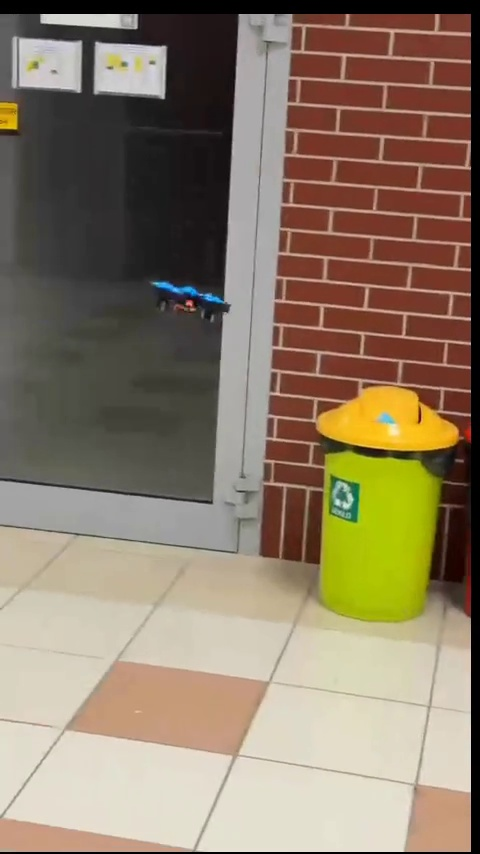drone: (150, 279, 232, 322)
